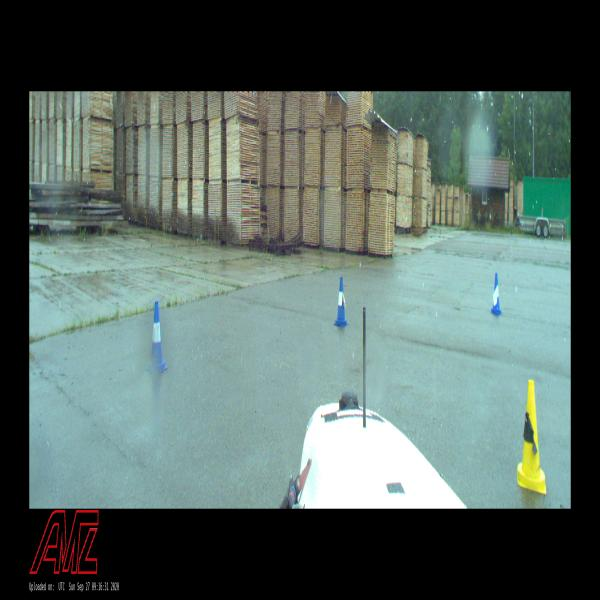blue_cone: (146, 303, 168, 374), (334, 276, 348, 327), (491, 275, 502, 316)
yellow_cone: (516, 380, 546, 500)
